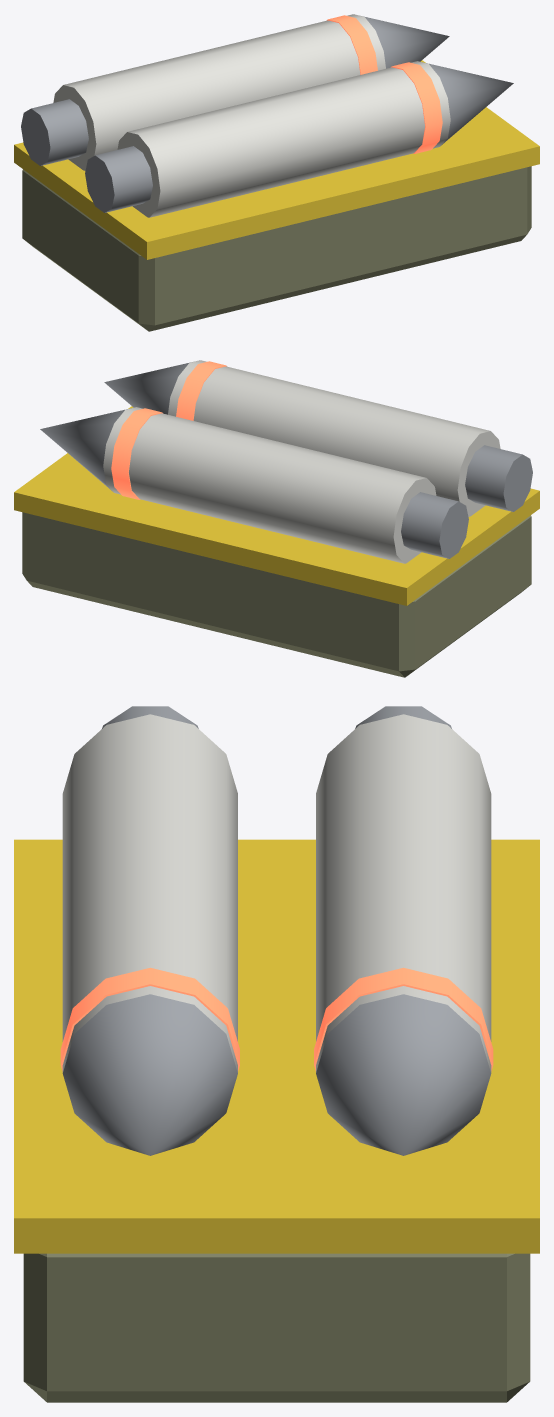
The model's file is item_ammo_rockets.glb.
The picture shows the model from 3 angles, top to bottom: view 1: azimuth 30°, elevation 25°; view 2: azimuth 150°, elevation 25°; view 3: azimuth 270°, elevation 25°; orthographic projection. The views are drawn at different scales.
Parts seen in each view (by area): view 1: ammo_rockets; view 2: ammo_rockets; view 3: ammo_rockets.
Boxes of the visible parts, x1,y1,x2,y2 form: ammo_rockets: (14, 14, 539, 331); ammo_rockets: (14, 360, 539, 677); ammo_rockets: (14, 706, 539, 1402).
Bounding box in the file's own units: 0.485 × 0.196 × 0.27.
